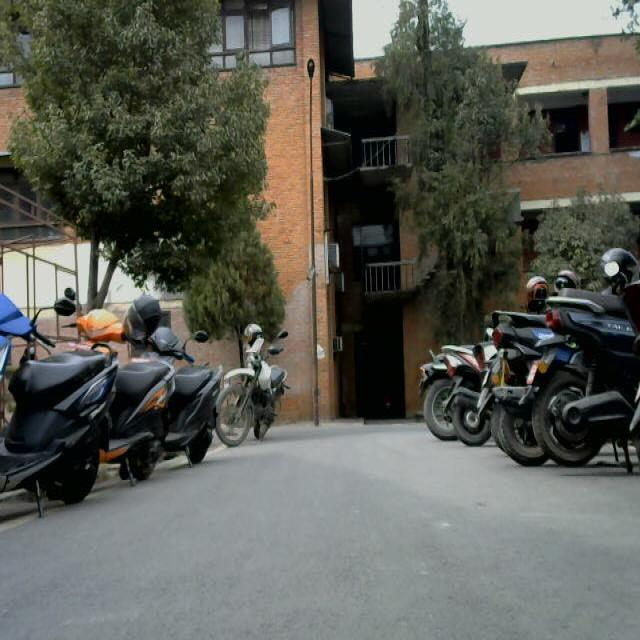Bike: (1, 282, 288, 522), (414, 247, 640, 481)
Pole: (300, 56, 323, 430)
Road: (53, 441, 640, 639)
trees: (3, 3, 273, 269), (377, 3, 519, 268)
